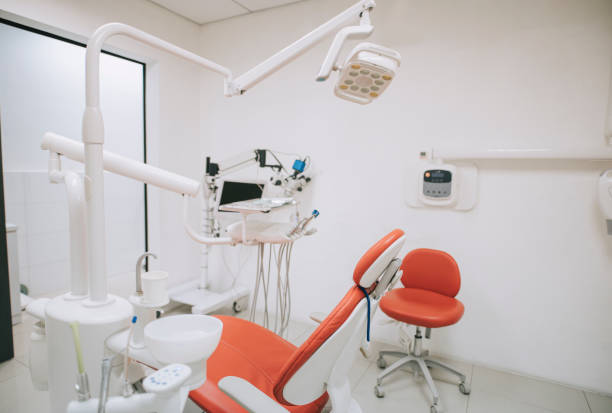chair: (375, 245, 474, 413)
dispenser: (597, 167, 612, 239)
exam_table: (186, 224, 428, 413)
faucet: (130, 250, 159, 292)
sink: (141, 316, 224, 363)
surgical_light: (329, 42, 400, 106)
